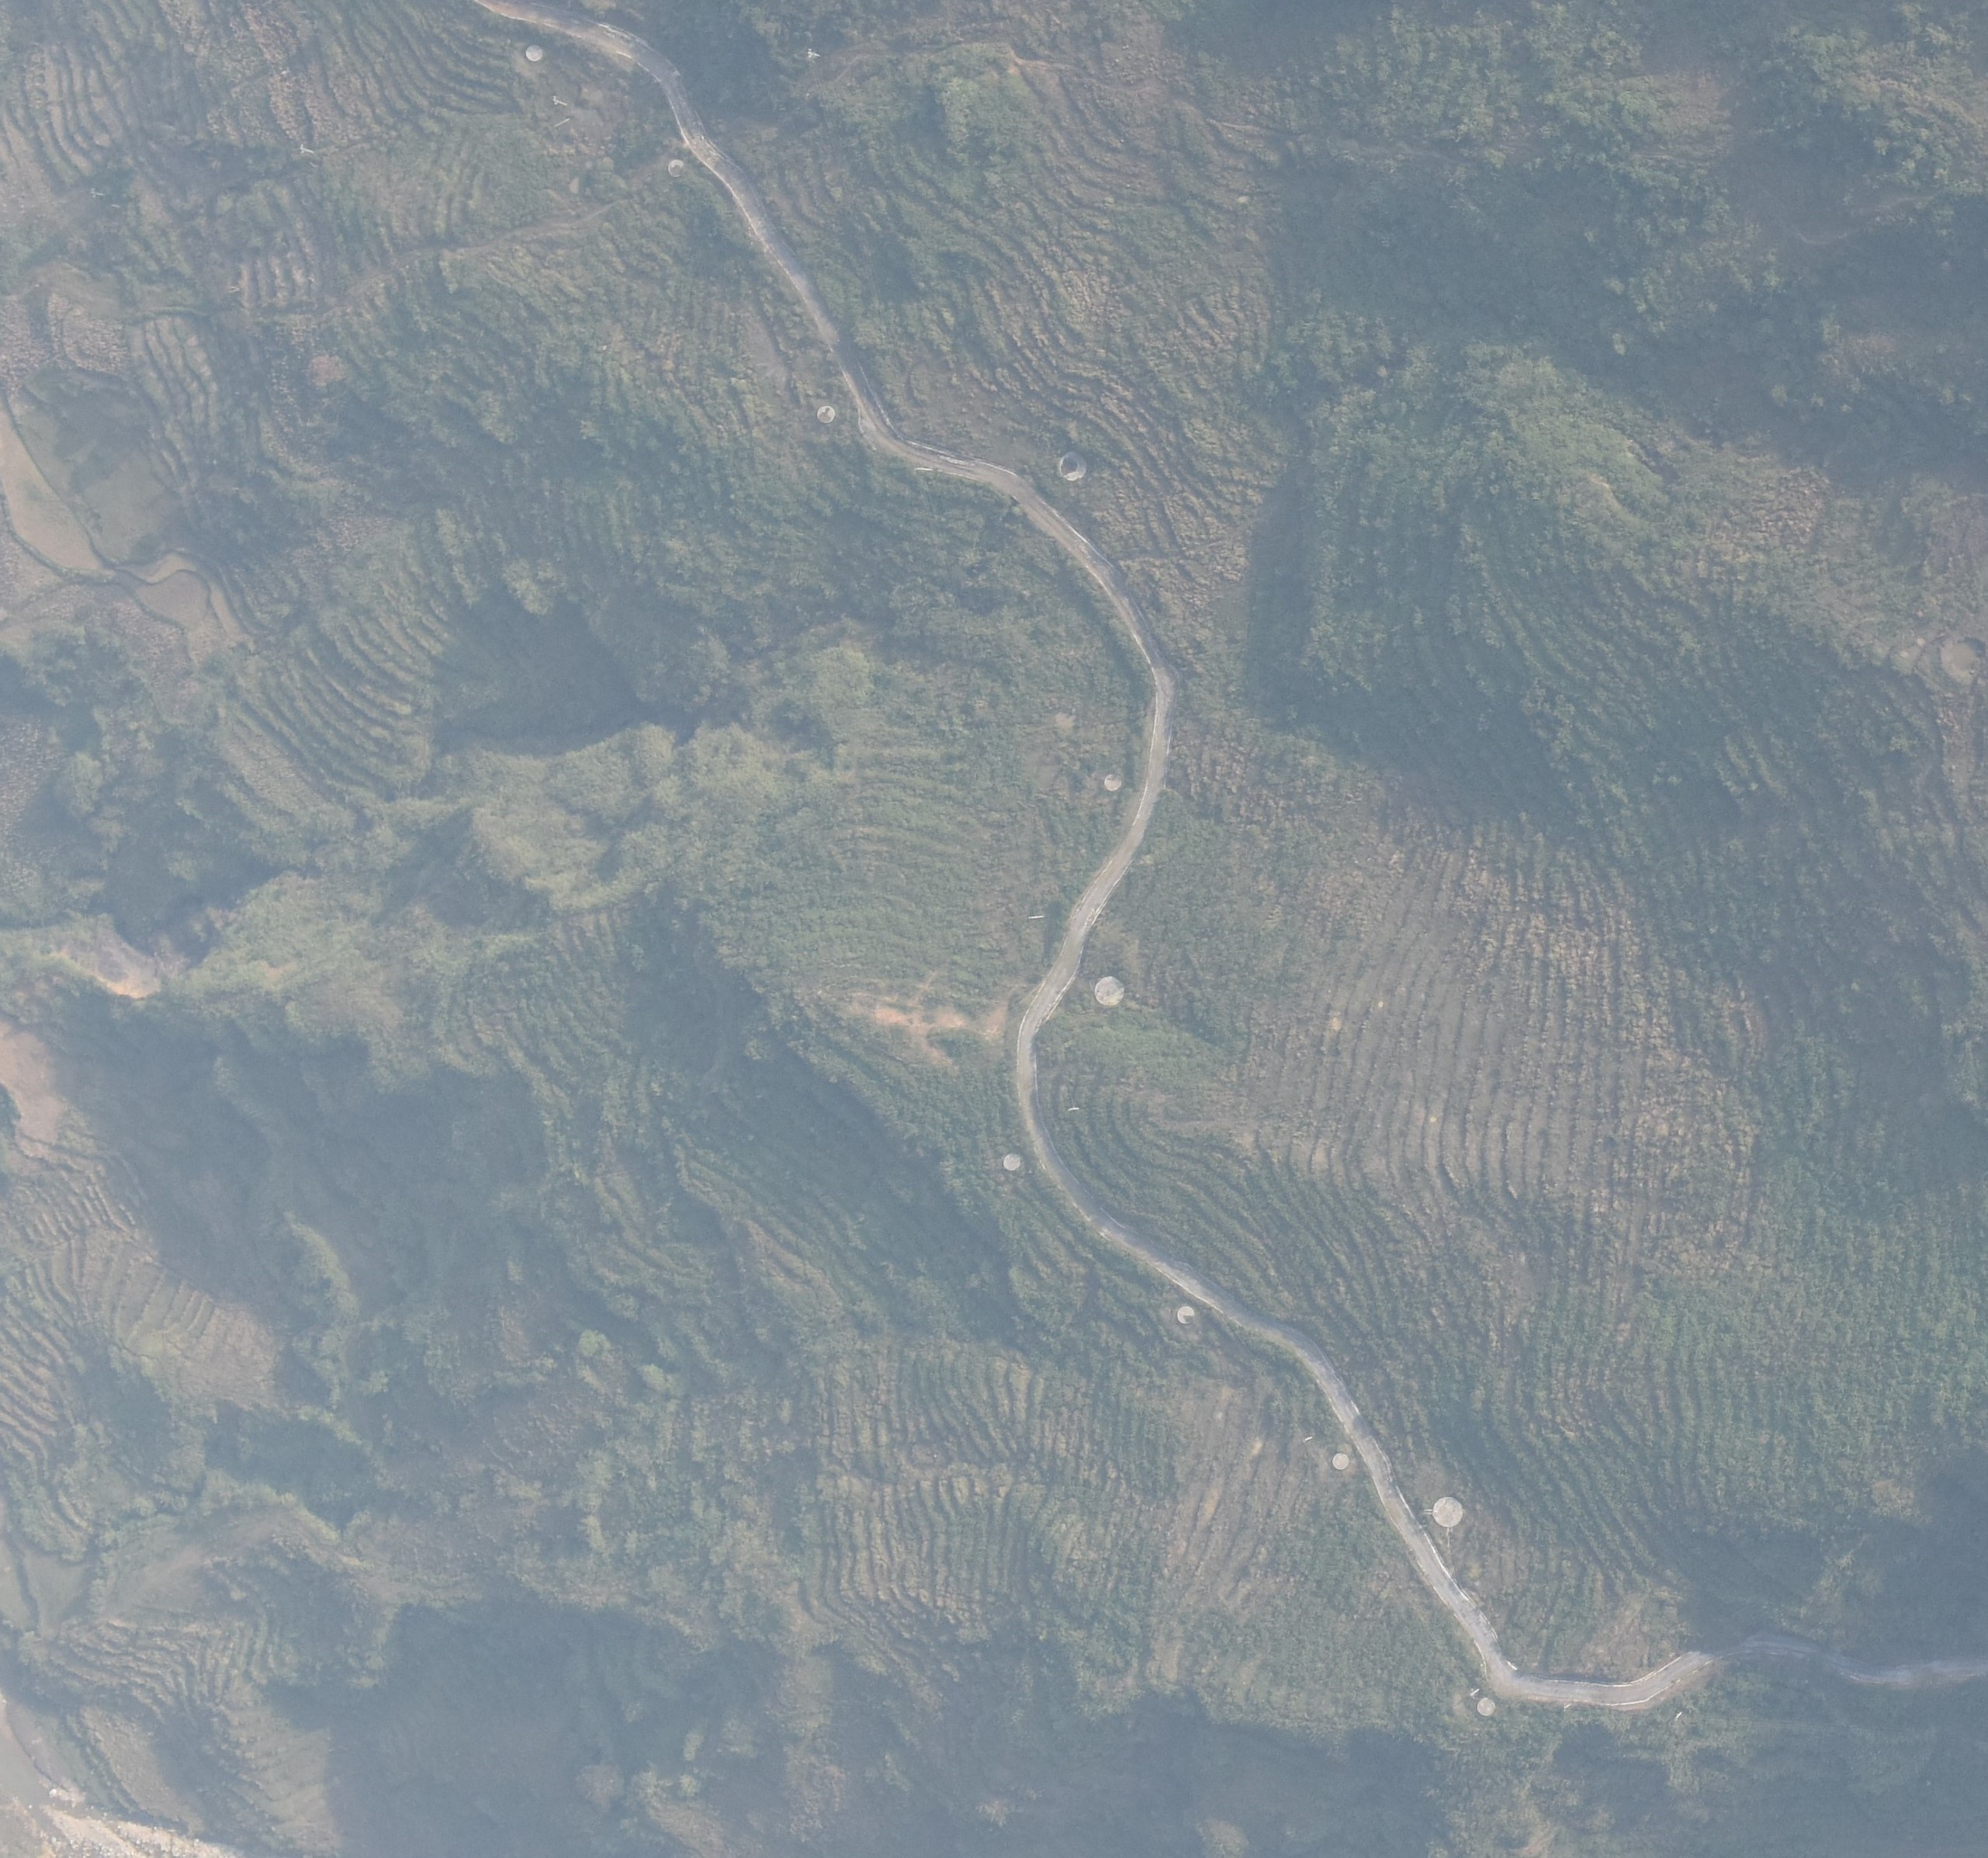well: (1431, 1492, 1466, 1531), (1095, 970, 1129, 1007), (1058, 445, 1089, 484), (1100, 767, 1126, 795), (1474, 1694, 1500, 1719), (1324, 1448, 1349, 1473), (1174, 1304, 1200, 1326), (999, 1150, 1026, 1170), (816, 403, 839, 424)
